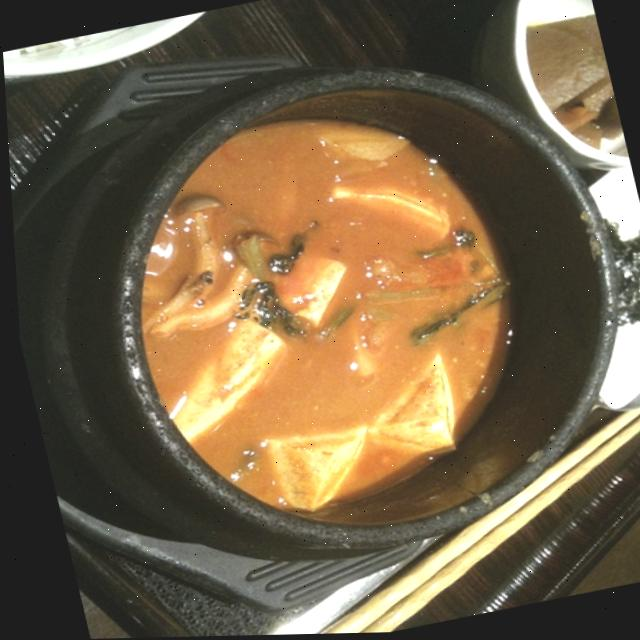汤锅炖物: (52, 13, 640, 595)
